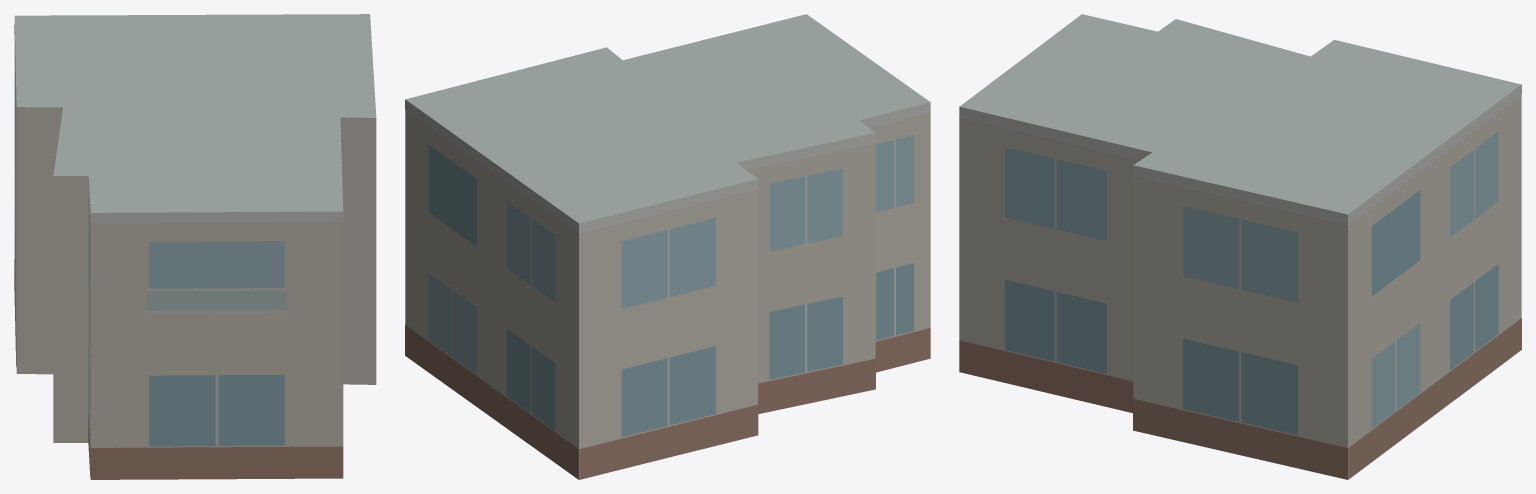
File: survey-upis-32828198.glb
The picture shows the model from 3 angles, left to right: view 1: azimuth 30°, elevation 25°; view 2: azimuth 150°, elevation 25°; view 3: azimuth 270°, elevation 25°; orthographic projection. The views are drawn at different scales.
Visible parts, largest first — view 1: survey-upis-32828198.tmp; view 2: survey-upis-32828198.tmp; view 3: survey-upis-32828198.tmp.
Boxes of the visible parts, x1,y1,x2,y2 form: survey-upis-32828198.tmp: (14,14,376,479); survey-upis-32828198.tmp: (405,14,930,479); survey-upis-32828198.tmp: (959,14,1521,479).
Bounding box in the file's own units: 9.89 × 6.1 × 11.72.
